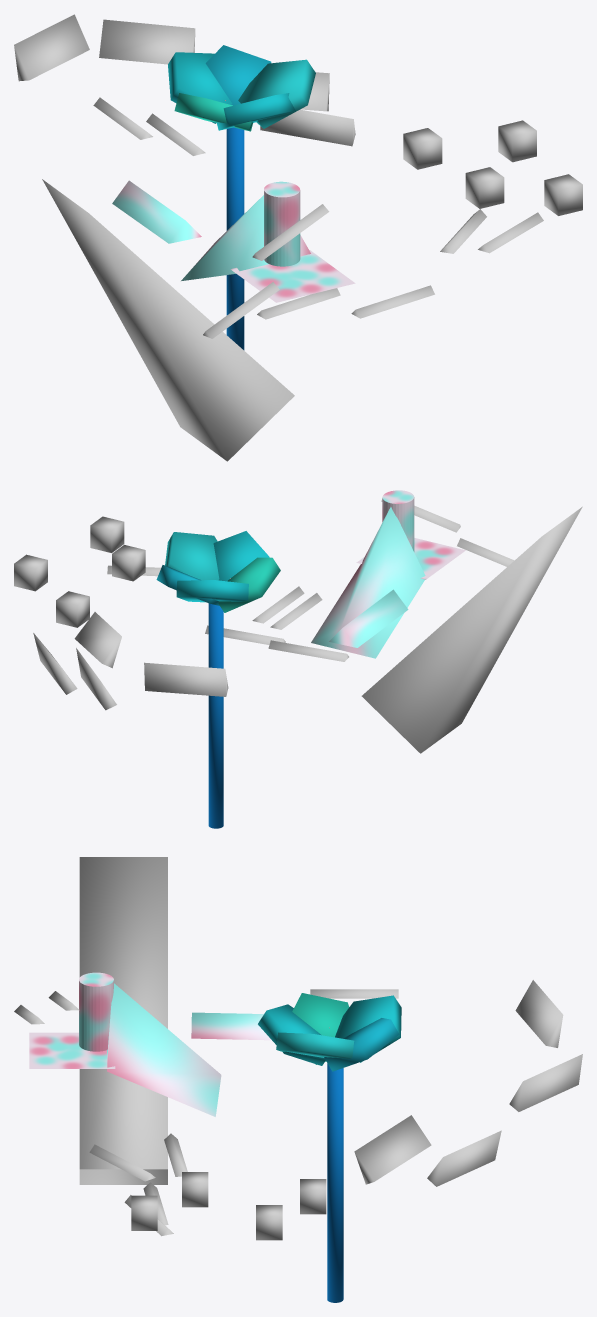
The model's file is KevWorldColorFive.obj.
The picture shows the model from 3 angles, top to bottom: view 1: azimuth 30°, elevation 25°; view 2: azimuth 150°, elevation 25°; view 3: azimuth 270°, elevation 25°; orthographic projection. The views are drawn at different scales.
Parts seen in each view (by area): view 1: Basic_Ramp.012_Cube.022, Basic_Ramp.003_Cube.009, Basic_Ramp_Cube, Baseplane_Plane, Basic_Ramp.002_Cube.003, Cylinder.001, Cylinder.003, Cylinder.007, Basic_Ramp.001_Cube.025, Cylinder.002, Basic_Ramp.006_Cube.012, Cylinder.006 (+15 smaller); view 2: Basic_Ramp.012_Cube.022, Basic_Ramp_Cube, Cylinder.001, Basic_Ramp.002_Cube.003, Cylinder.003, Basic_Ramp.001_Cube.025, Cylinder.004, Basic_Ramp.006_Cube.012, Cylinder.005, Cylinder.002, Baseplane_Plane, Cylinder.007 (+13 smaller); view 3: Basic_Ramp.012_Cube.022, Basic_Ramp_Cube, Cylinder.001, Basic_Ramp.006_Cube.012, Cylinder.007, Baseplane_Plane, Basic_Ramp.003_Cube.009, Basic_Ramp.001_Cube.025, Basic_Ramp.002_Cube.003, Basic_Ramp.005_Cube.011, Cylinder.002, Cylinder.006 (+10 smaller).
Part boxes in pixels (x1,y1,x2,y2): Basic_Ramp.012_Cube.022: [42, 179, 294, 461]; Basic_Ramp.003_Cube.009: [99, 19, 195, 64]; Basic_Ramp_Cube: [181, 195, 310, 280]; Baseplane_Plane: [230, 250, 355, 302]; Basic_Ramp.002_Cube.003: [14, 14, 89, 81]; Cylinder.001: [226, 127, 244, 350]; Cylinder.003: [238, 59, 315, 128]; Cylinder.007: [264, 181, 300, 266]; Basic_Ramp.001_Cube.025: [112, 180, 201, 243]; Cylinder.002: [168, 52, 232, 123]; Basic_Ramp.006_Cube.012: [260, 109, 355, 146]; Cylinder.006: [205, 45, 271, 105]; Basic_Ramp.012_Cube.022: [361, 506, 582, 753]; Basic_Ramp_Cube: [311, 507, 425, 658]; Cylinder.001: [208, 603, 223, 828]; Basic_Ramp.002_Cube.003: [144, 662, 228, 696]; Cylinder.003: [165, 532, 219, 580]; Basic_Ramp.001_Cube.025: [329, 589, 408, 647]; Cylinder.004: [213, 531, 269, 581]; Basic_Ramp.006_Cube.012: [74, 612, 121, 668]; Cylinder.005: [218, 557, 280, 612]; Cylinder.002: [176, 580, 248, 602]; Baseplane_Plane: [356, 538, 465, 579]; Cylinder.007: [382, 490, 414, 551]; Basic_Ramp.012_Cube.022: [79, 857, 167, 1184]; Basic_Ramp_Cube: [107, 983, 221, 1116]; Cylinder.001: [327, 1063, 343, 1302]; Basic_Ramp.006_Cube.012: [354, 1115, 431, 1184]; Cylinder.007: [79, 972, 113, 1051]; Baseplane_Plane: [29, 1032, 115, 1068]; Basic_Ramp.003_Cube.009: [509, 1054, 582, 1111]; Basic_Ramp.001_Cube.025: [191, 1012, 271, 1040]; Basic_Ramp.002_Cube.003: [515, 980, 563, 1047]; Basic_Ramp.005_Cube.011: [427, 1130, 501, 1186]; Cylinder.002: [335, 995, 401, 1062]; Cylinder.006: [324, 1018, 399, 1071].
Size of the model in its own units: 1402 by 825 by 1360.
